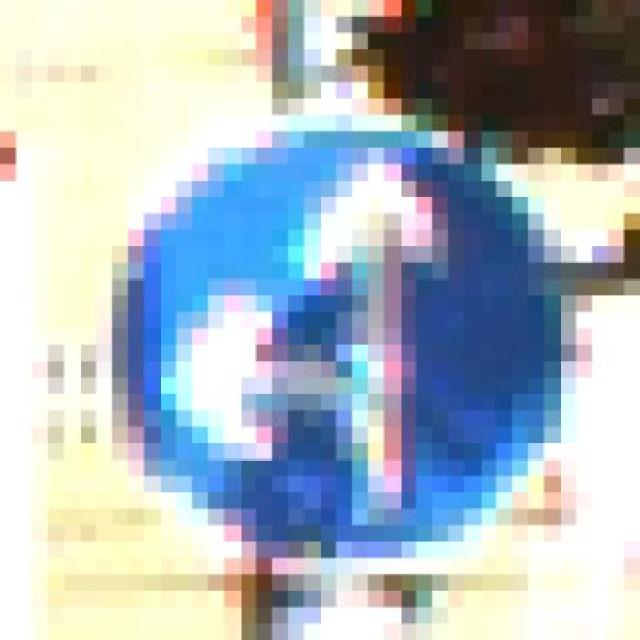Go straight or turn left: (80, 131, 608, 558)
